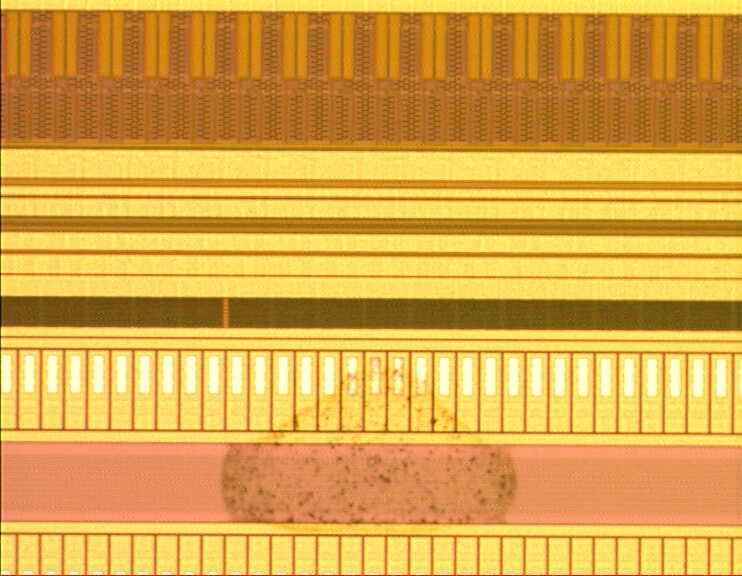PO CONTAMINATION: (218, 356, 519, 541)
